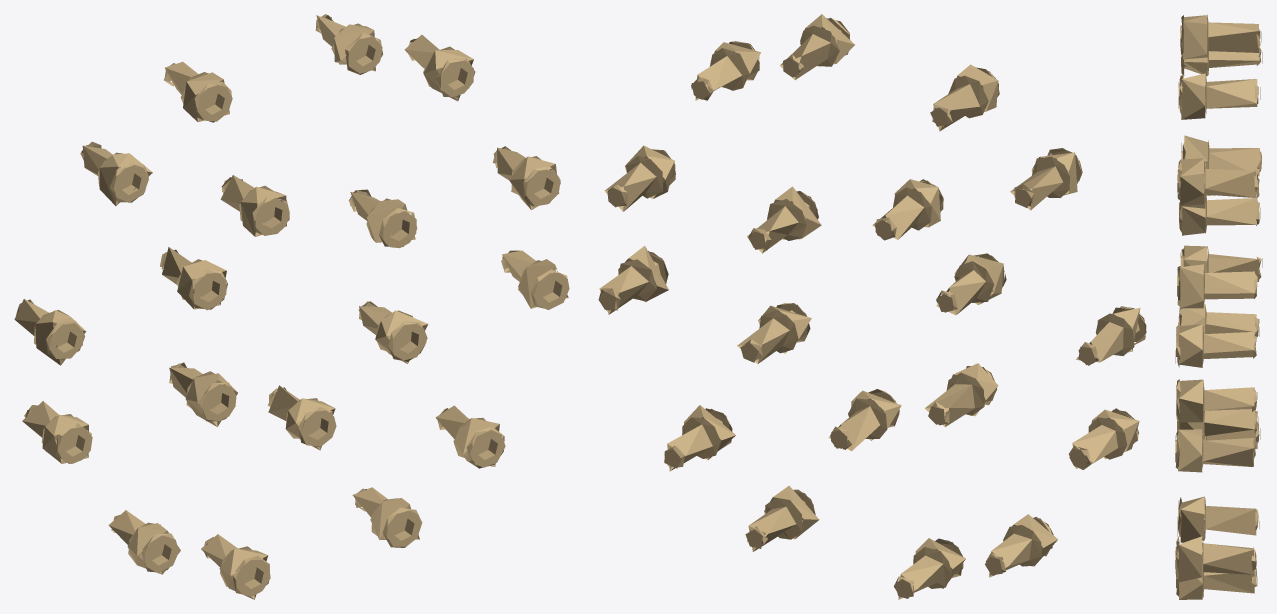
Rendered from middle_right_wheel_149.dae.
The picture shows the model from 3 angles, left to right: view 1: azimuth 30°, elevation 25°; view 2: azimuth 150°, elevation 25°; view 3: azimuth 270°, elevation 25°; orthographic projection. The views are drawn at different scales.
Parts seen in each view (by area): view 1: node; view 2: node; view 3: node.
Boxes of the visible parts, <box> form: node: <box>14,14,569,599</box>; node: <box>598,14,1146,599</box>; node: <box>1175,14,1262,599</box>.
Size of the model in its own units: 0.1714 by 0.0259 by 0.1698.
